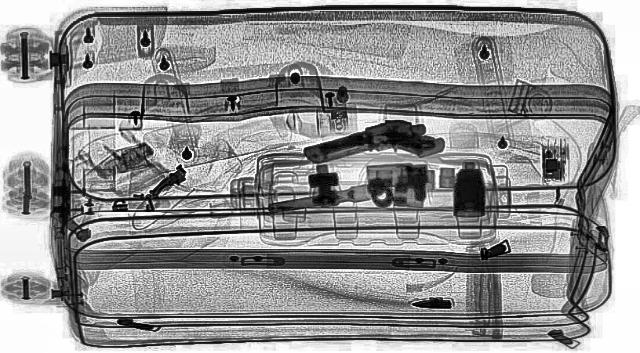Gun: (292, 112, 458, 183)
